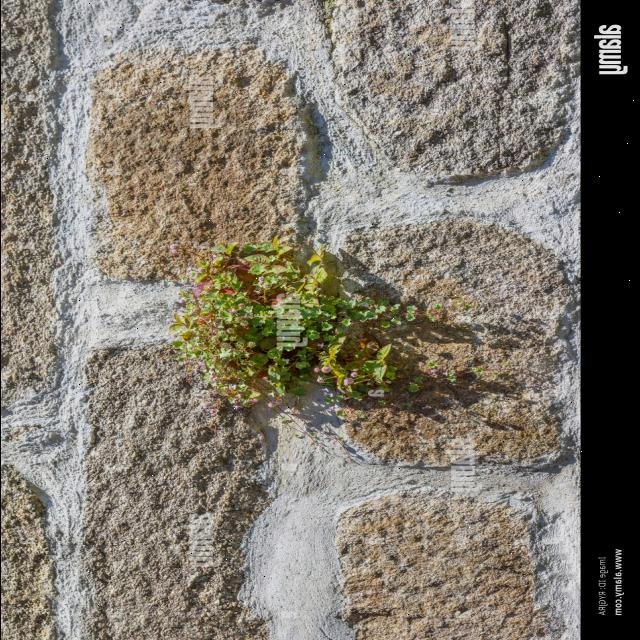crack: (2, 0, 582, 639)
vegetation: (166, 231, 437, 412)
